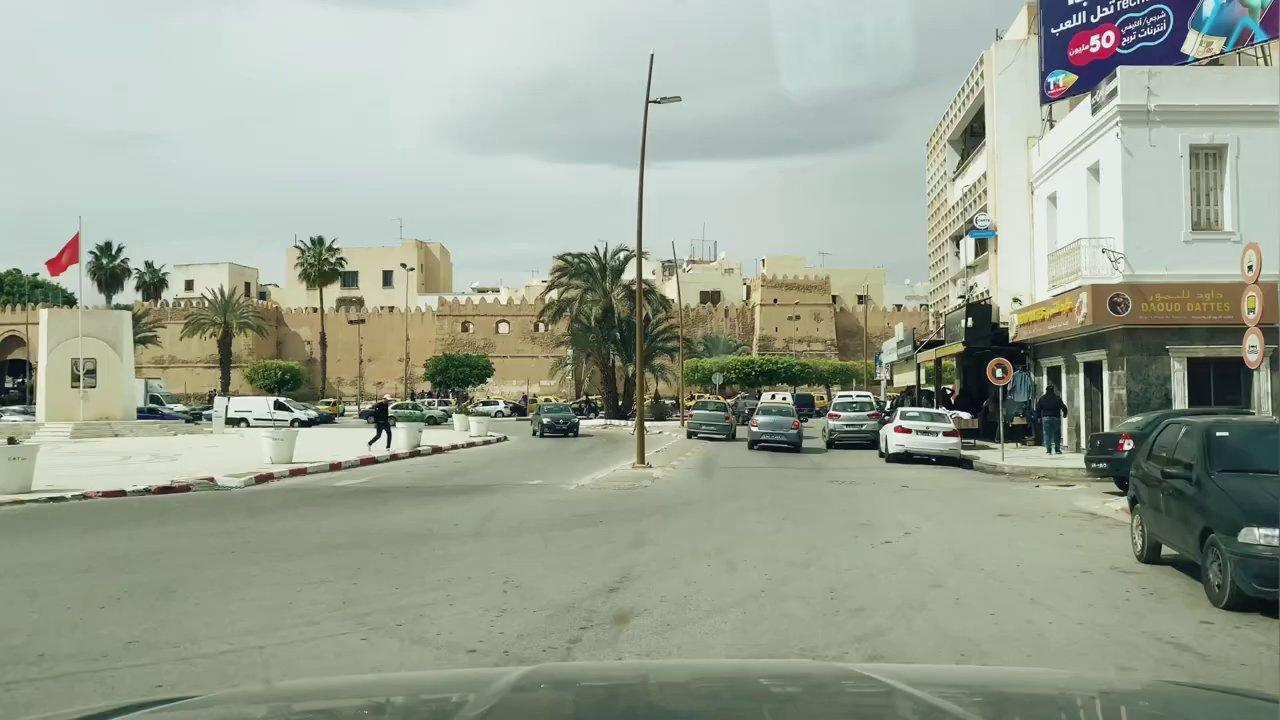no parking: (985, 356, 1015, 387)
no vehicles carrying dangerous goods: (1239, 284, 1264, 326)
no vehicles carrying explosives: (1239, 242, 1263, 285)
no vehicles carrying water pollutants: (1239, 327, 1265, 371)
